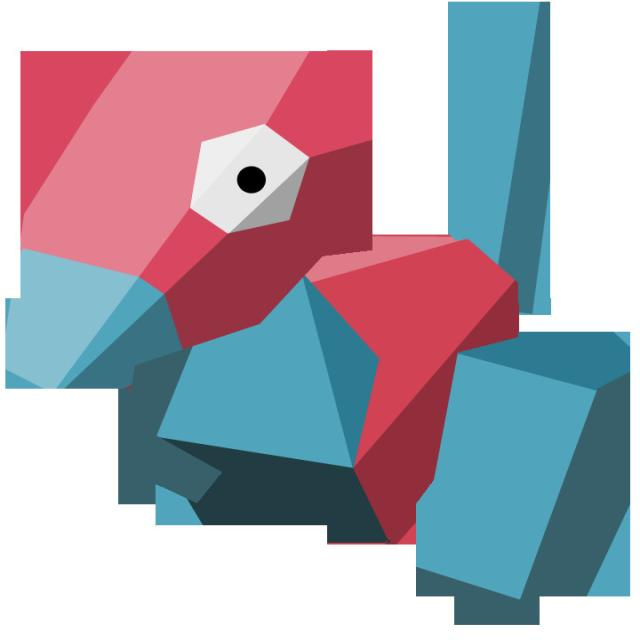Porygon: (23, 51, 630, 596)
